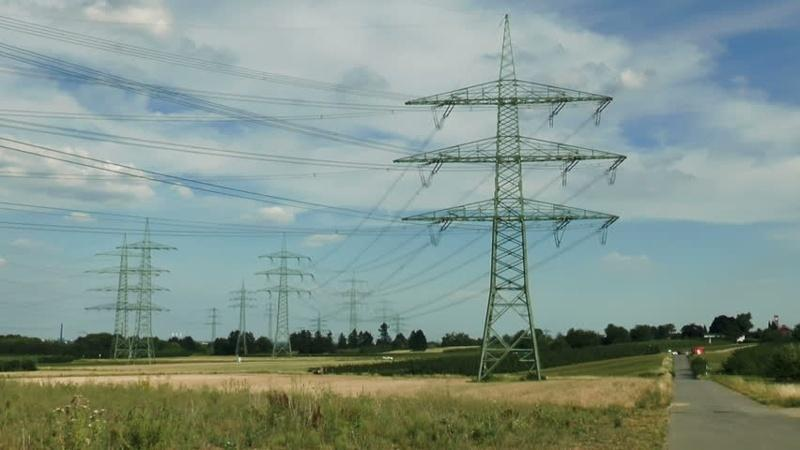power_tower: (428, 20, 604, 350), (102, 217, 167, 361), (257, 233, 310, 361)
